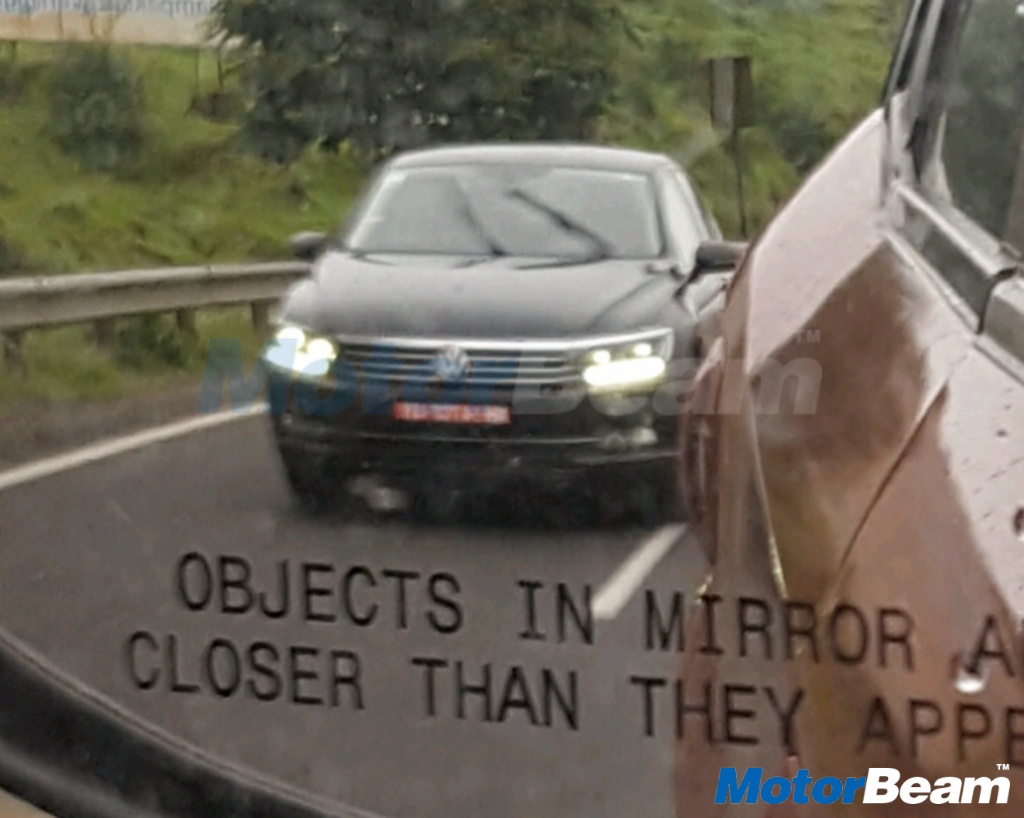number_plate: (382, 396, 522, 441)
